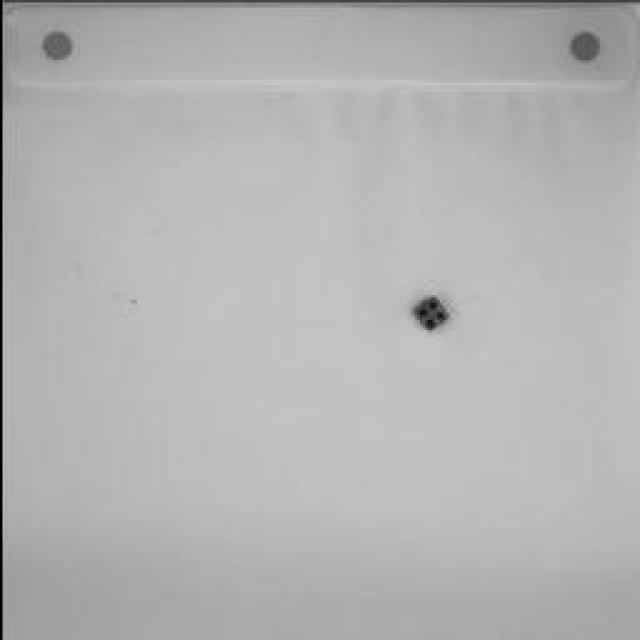dice_4: (407, 291, 445, 329)
